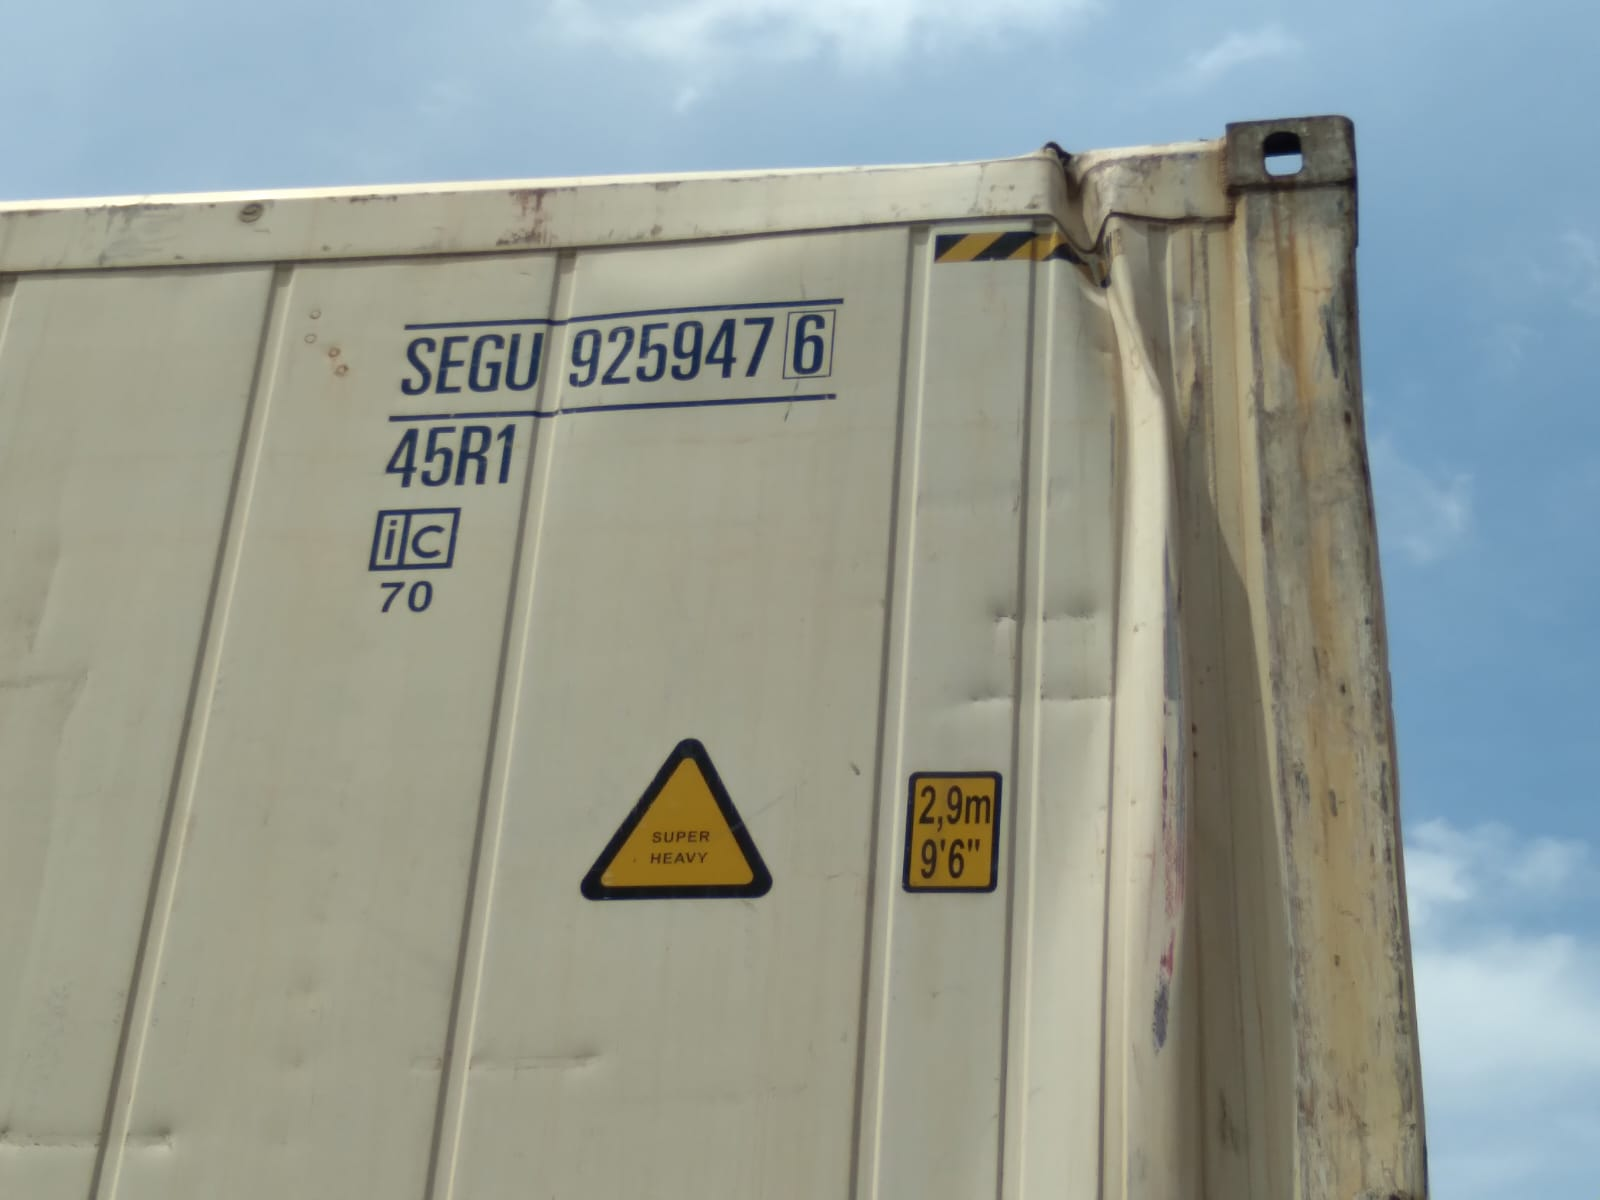moderate: (1004, 145, 1332, 983)
